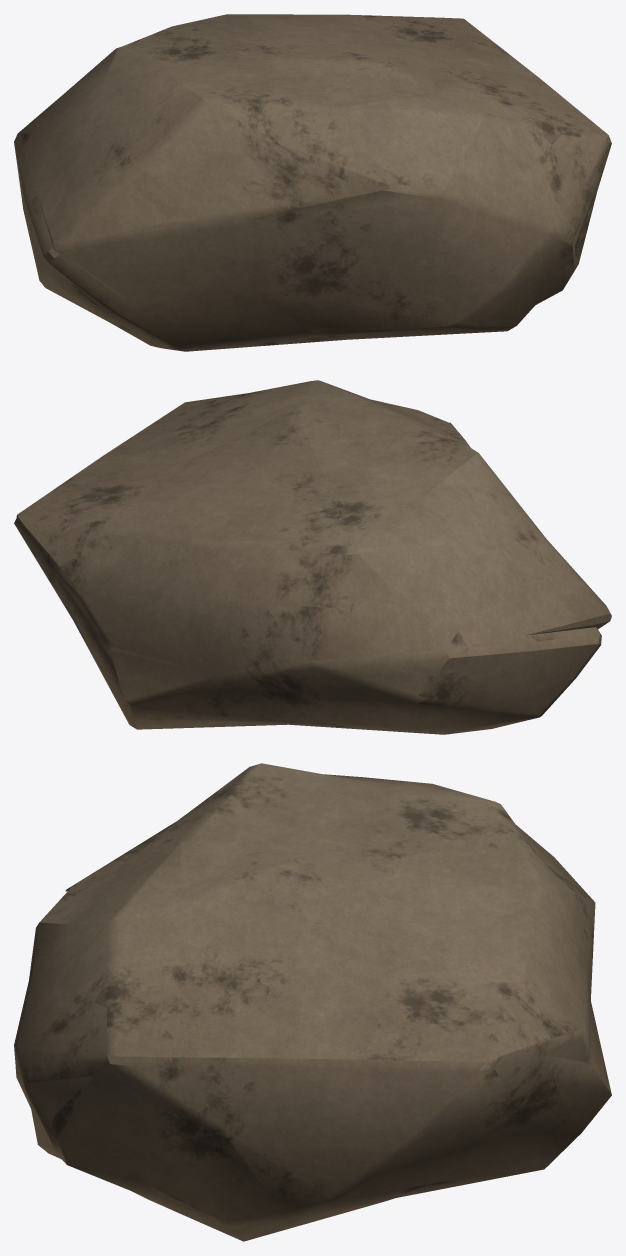
Rendered from prop_boulder1.glb.
3 renders of one model, top to bottom at view 1: azimuth 30°, elevation 25°; view 2: azimuth 150°, elevation 25°; view 3: azimuth 270°, elevation 25°, orthographic. The views are drawn at different scales.
Visible parts, largest first — view 1: BoulderMesh; view 2: BoulderMesh; view 3: BoulderMesh.
Part boxes in pixels (x1,y1,x2,y2): BoulderMesh: (14,14,611,351); BoulderMesh: (14,380,611,734); BoulderMesh: (14,763,611,1241).
Size of the model in its own units: 2.14 by 1.06 by 1.84.
Materials: 1 (1 with a texture image).
